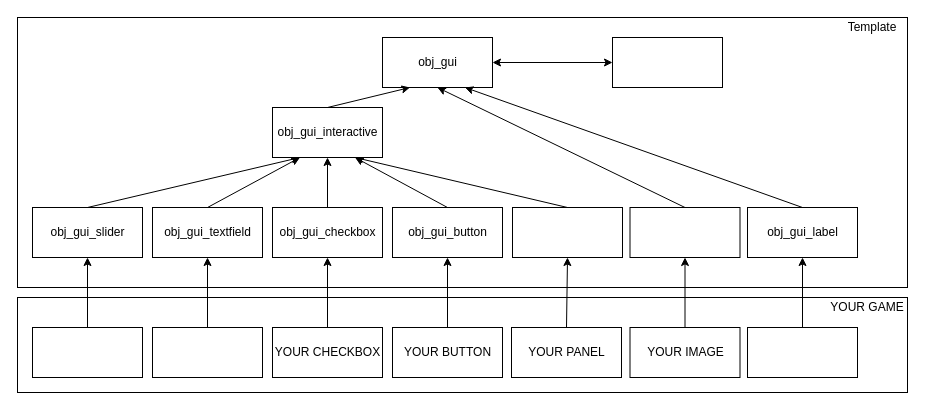
The diagram is 925 pixels wide and 410 high, and some of its shapes have lost their labels. The centre of each missing label's shape, as x and y in pixels:
obj_gui_controller: point (667, 62)
obj_gui_image: point (684, 232)
obj_gui_panel: point (567, 232)
YOUR LABEL: point (802, 352)
YOUR SLIDER: point (87, 352)
YOUR TEXTFIELD: point (207, 352)
